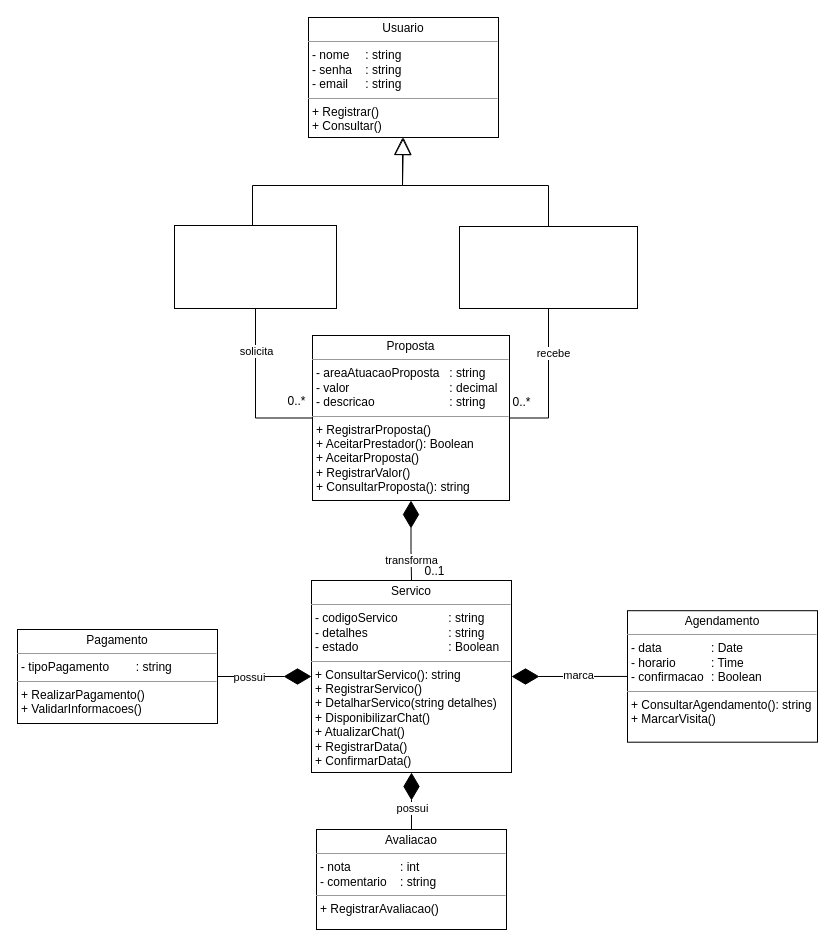
Image size: 835x947. Some labels were removed from this diagram. The centre of each missing label's shape, as x and y in pixels:
"Cliente - endereco : string" goes at point 255,266.
"Prestador - areasAtuacao : string[]" goes at point 548,267.
